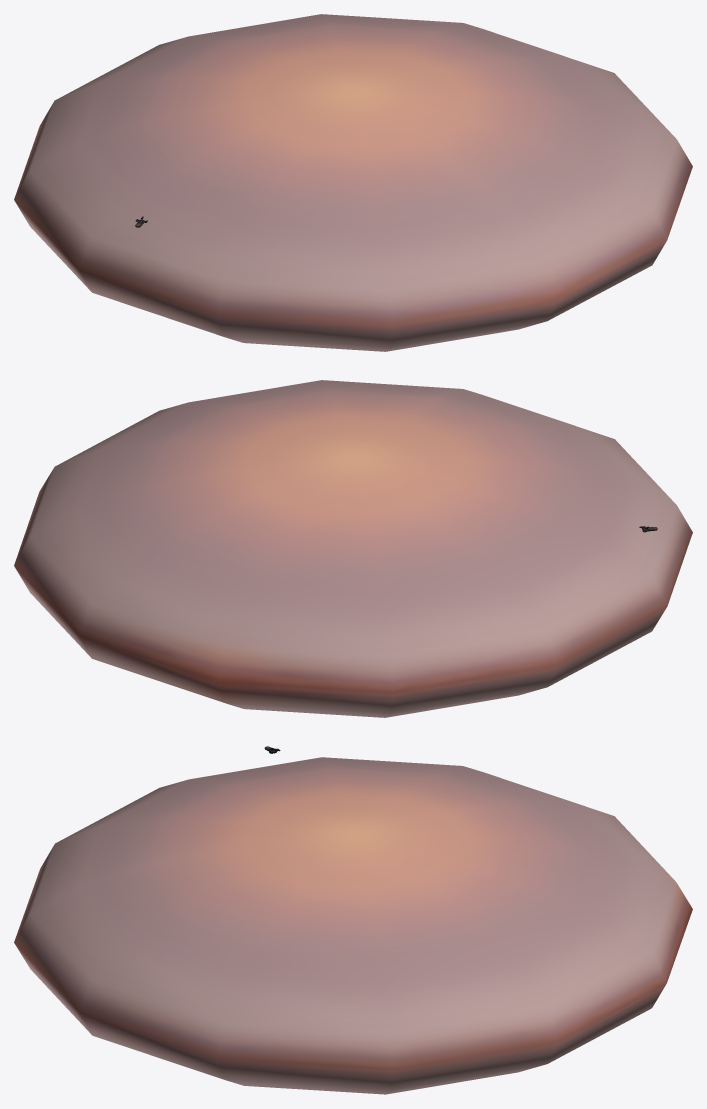
File: env_tatooine_dunes_pre.glb
3 renders of one model, top to bottom at view 1: azimuth 30°, elevation 25°; view 2: azimuth 150°, elevation 25°; view 3: azimuth 270°, elevation 25°, orthographic.
Visible parts, largest first — view 1: hoth_skybox_01_mesh; view 2: hoth_skybox_01_mesh; view 3: hoth_skybox_01_mesh.
Boxes of the visible parts, x1=… form: hoth_skybox_01_mesh: x1=14, y1=14, x2=692, y2=351; hoth_skybox_01_mesh: x1=14, y1=380, x2=692, y2=717; hoth_skybox_01_mesh: x1=14, y1=757, x2=692, y2=1094.
Size of the model in its own units: 274 by 81.81 by 274.
12 materials, 12 textured.
